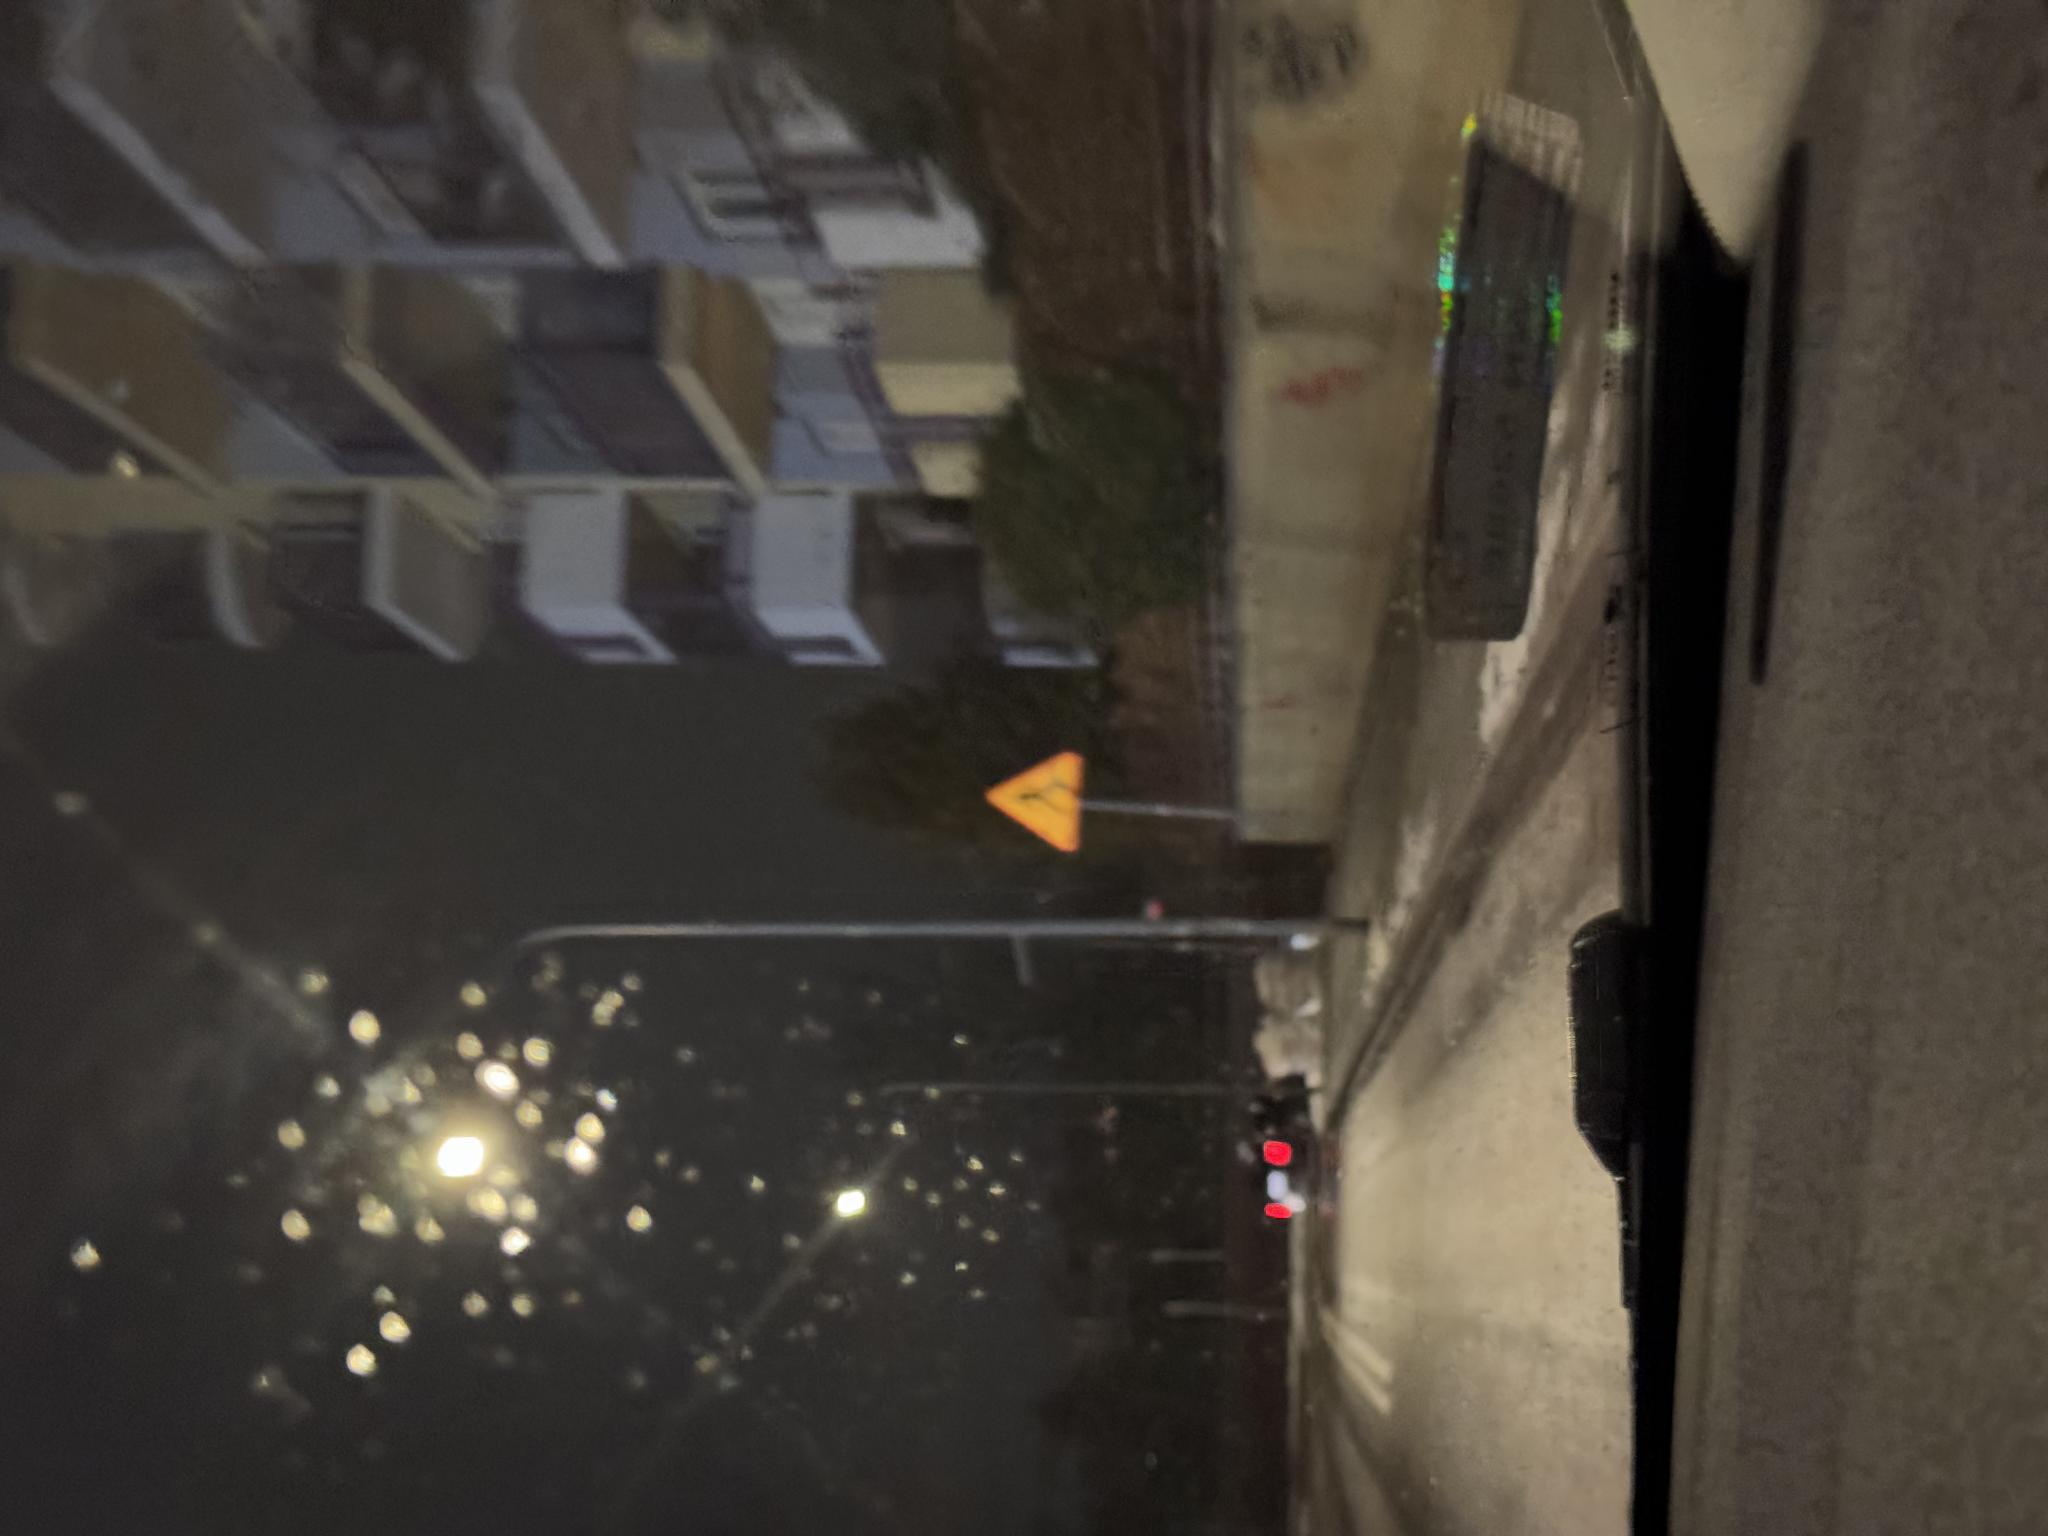warning: (682, 984, 785, 1086)
